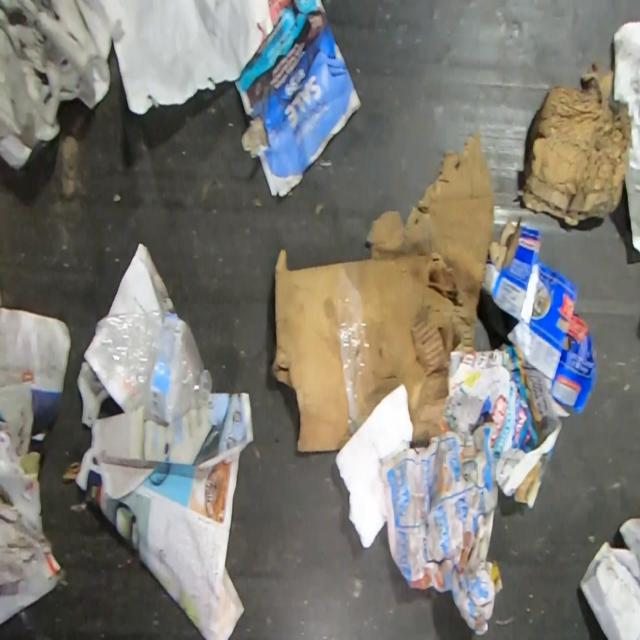cardboard: (270, 131, 497, 454), (481, 220, 597, 416), (522, 58, 633, 227)
rigid_plastic: (84, 310, 214, 428)
soft_plastic: (0, 0, 125, 172)
